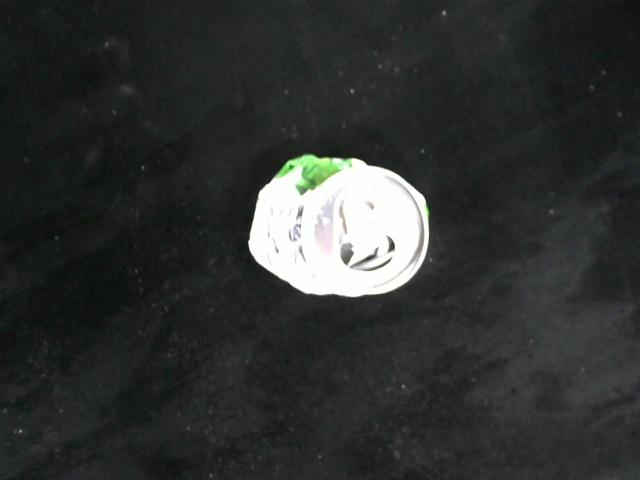can: (238, 149, 433, 305)
